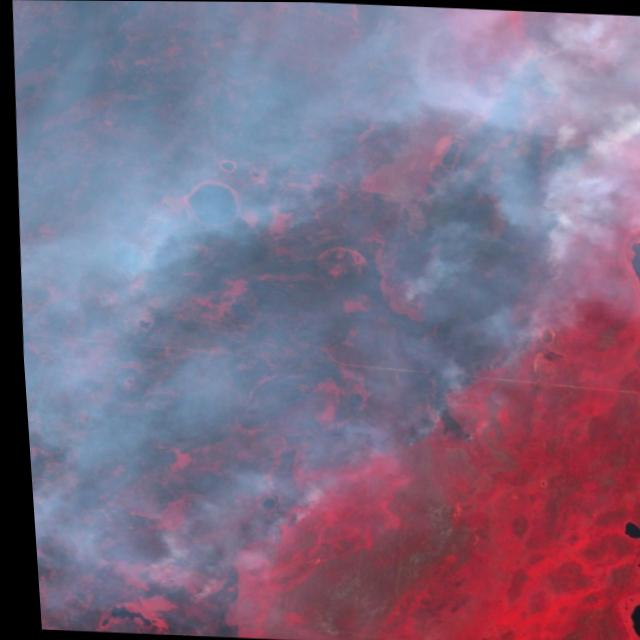fire: (479, 204, 595, 374), (379, 413, 472, 470), (221, 500, 306, 558)
